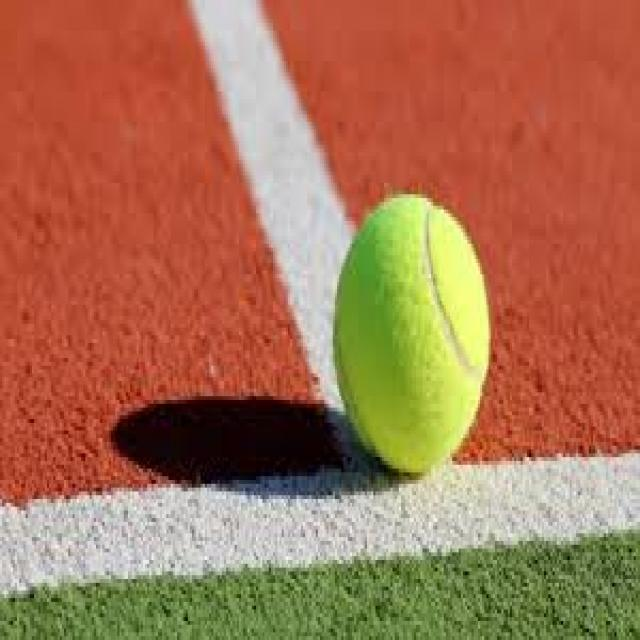tennis-ball: (332, 191, 494, 476)
